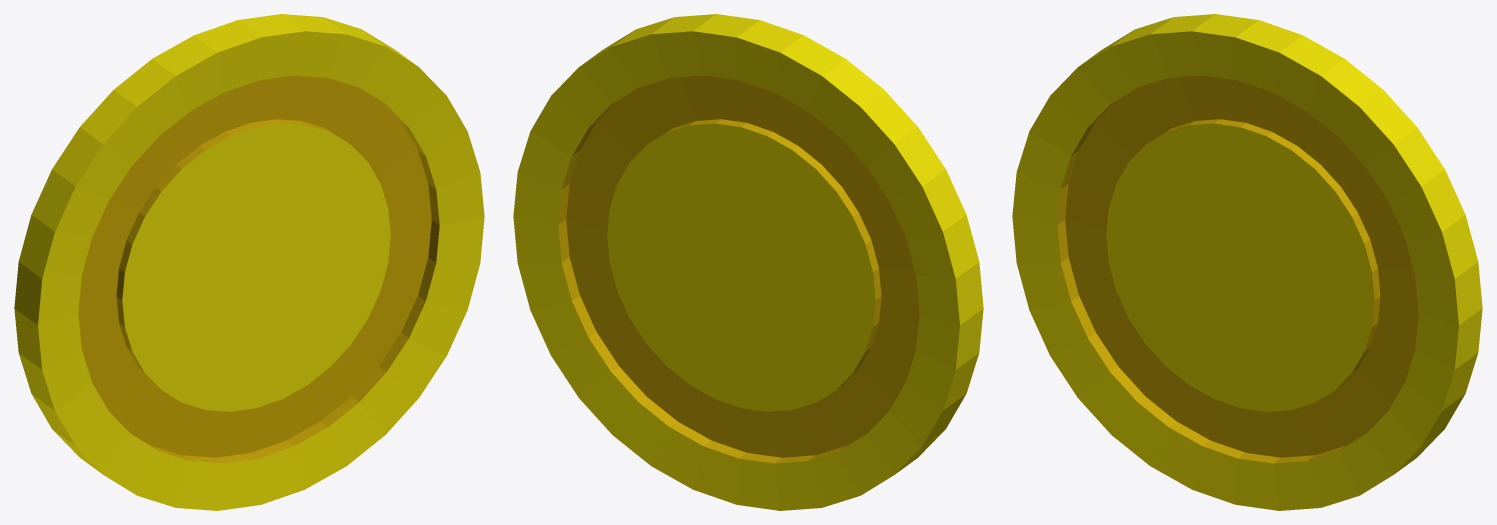
The model's file is Coin.fbx.
3 views of the same model, side by side, from view 1: azimuth 30°, elevation 25°; view 2: azimuth 150°, elevation 25°; view 3: azimuth 330°, elevation 25° (orthographic).
Parts seen in each view (by area): view 1: Coin0blender; view 2: Coin0blender; view 3: Coin0blender.
Boxes of the visible parts, x1,y1,x2,y2 form: Coin0blender: (14, 14, 484, 510); Coin0blender: (513, 14, 983, 510); Coin0blender: (1012, 14, 1482, 510).
Size of the model in its own units: 101 by 101 by 9.23.
